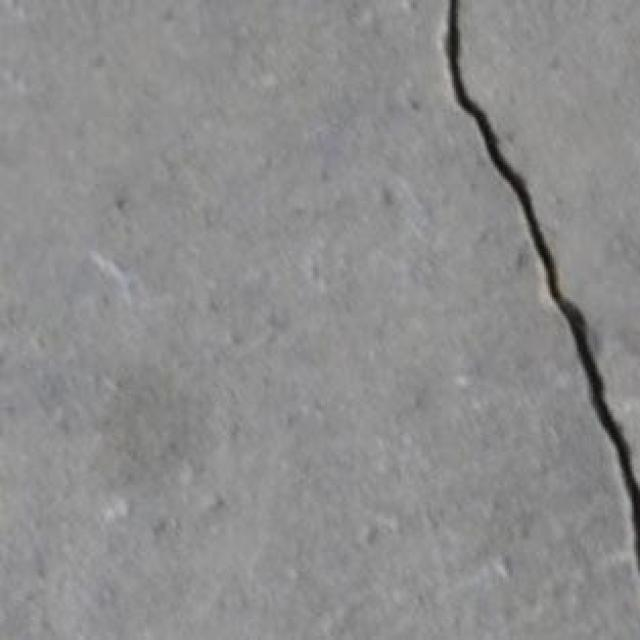diagonal crack: (440, 0, 638, 571)
